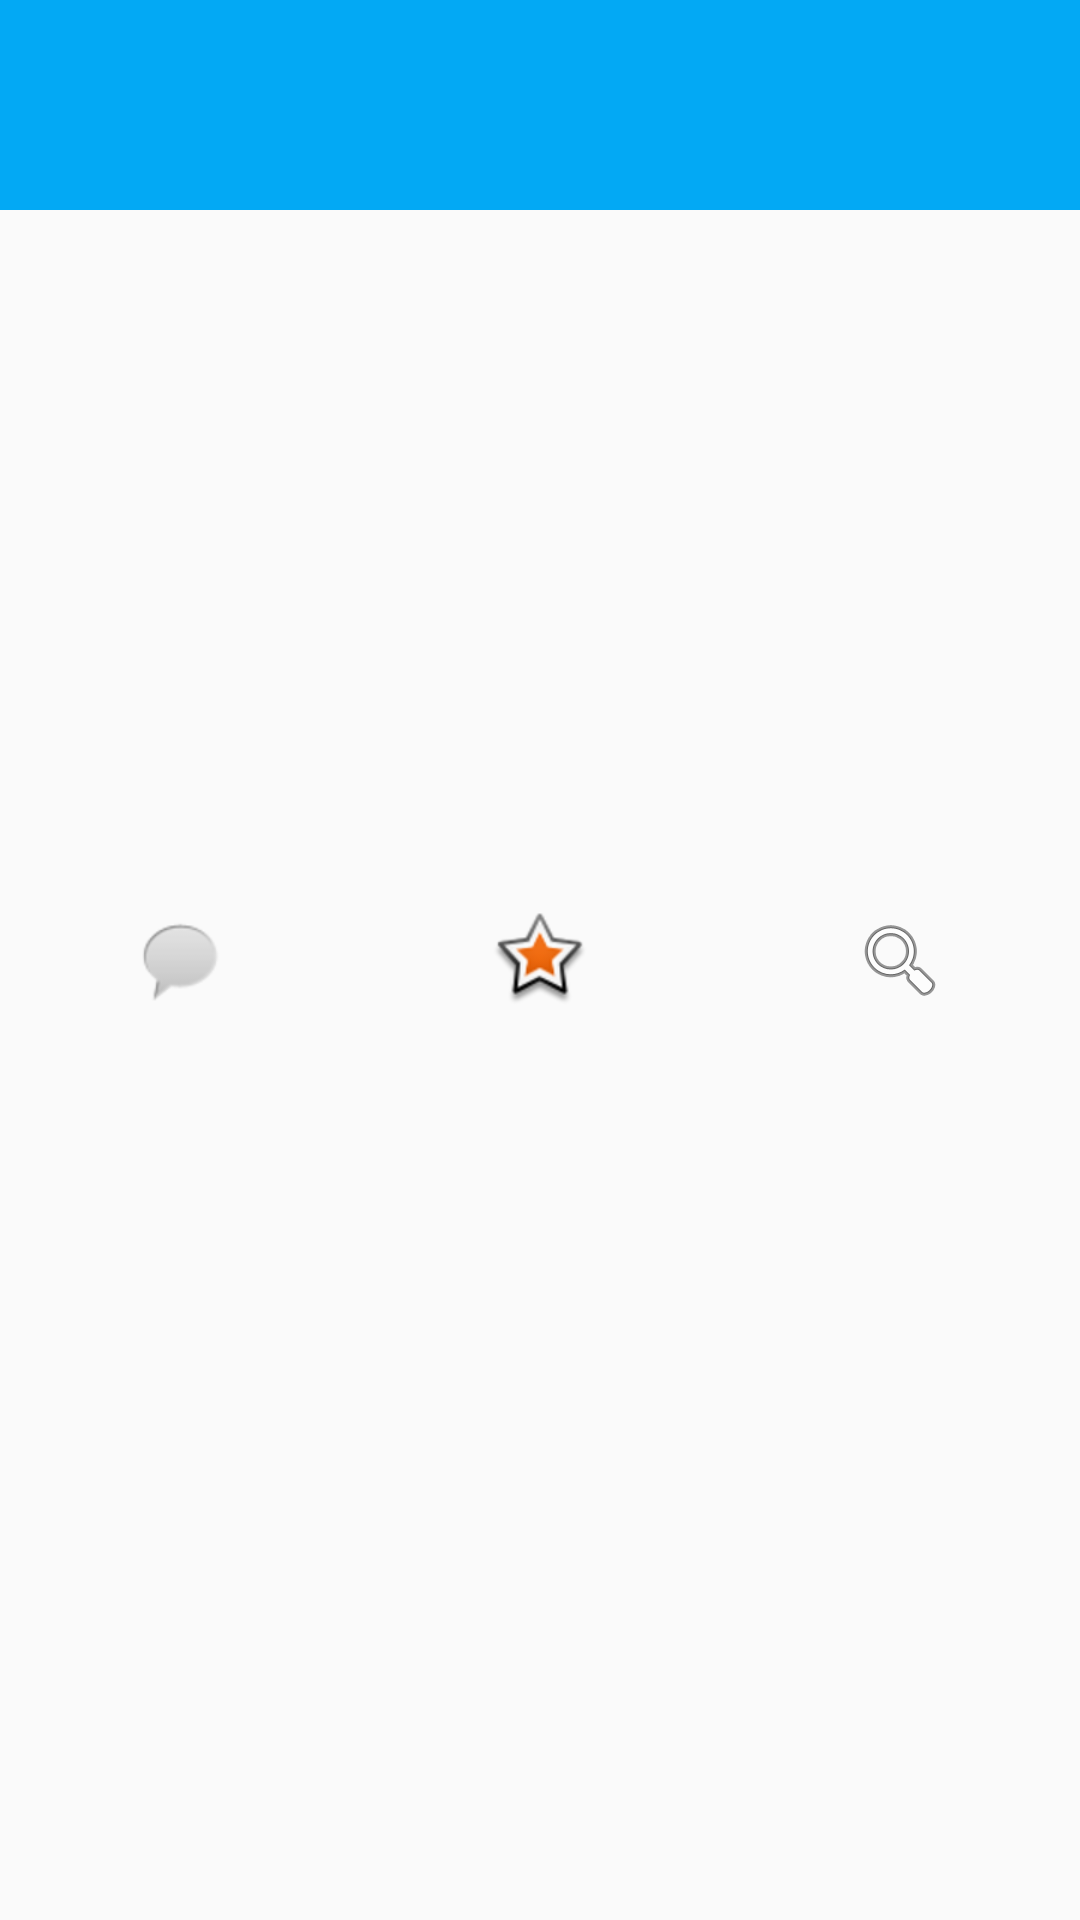

Icon click points for this 1080×1920 phone screenshot, format (x=x, y=y):
post tab: (x=179, y=961)
search: (x=900, y=960)
star on: (x=540, y=956)
